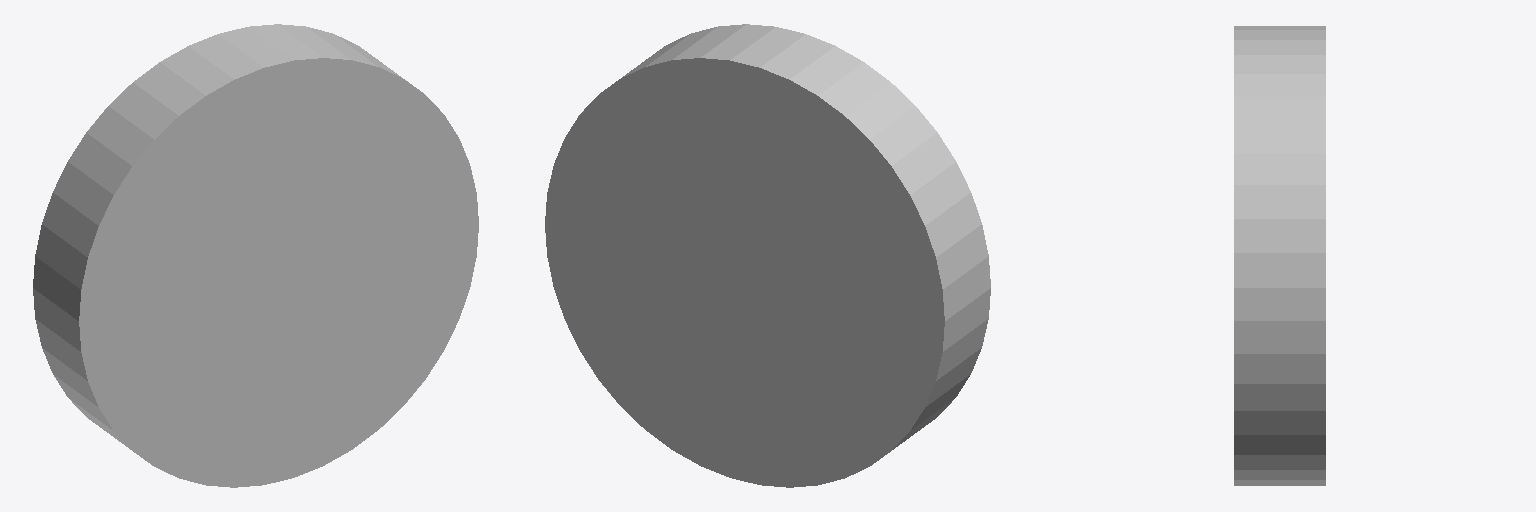
The model's file is Button v1.obj.
3 views of the same model, side by side, from view 1: azimuth 30°, elevation 25°; view 2: azimuth 150°, elevation 25°; view 3: azimuth 270°, elevation 25° (orthographic).
Visible parts, largest first — view 1: Körper1; view 2: Körper1; view 3: Körper1.
Boxes of the visible parts, <box> form: Körper1: <box>33,24,478,487</box>; Körper1: <box>545,24,990,487</box>; Körper1: <box>1234,26,1325,485</box>.
Size of the model in its own units: 1 by 0.9972 by 0.2.